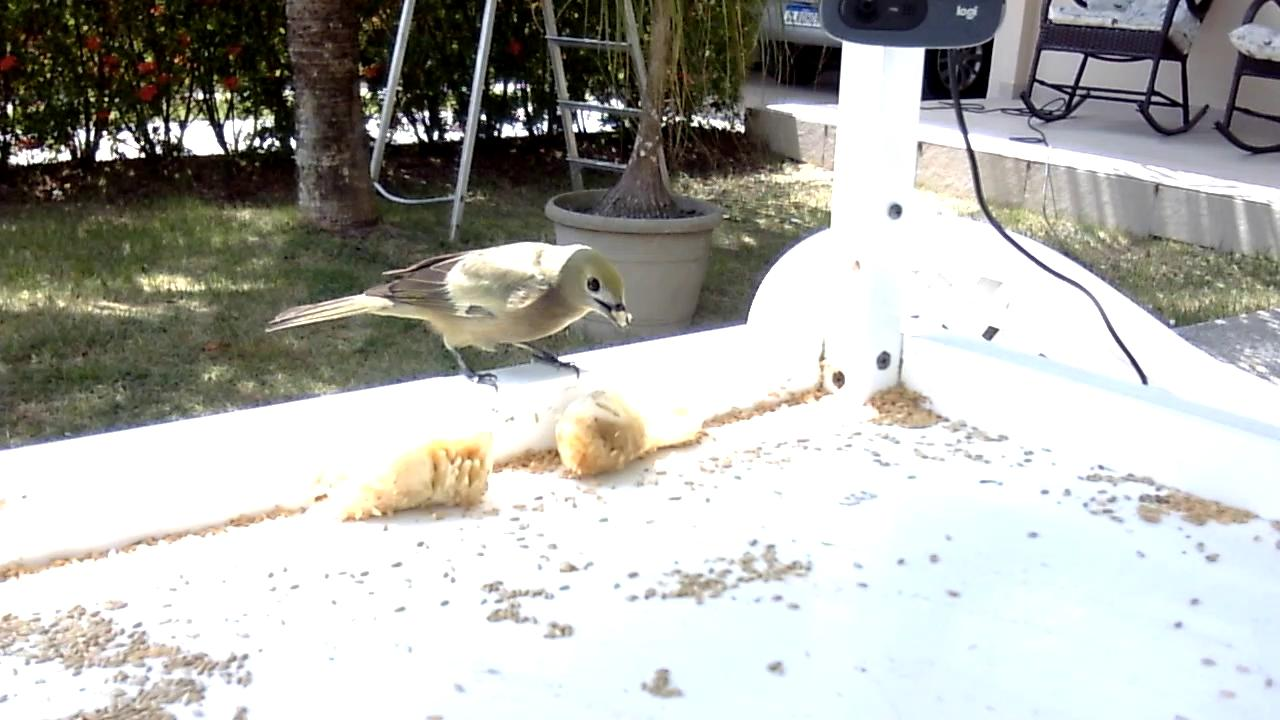sanhaco_do_coqueiro: (262, 240, 640, 399)
